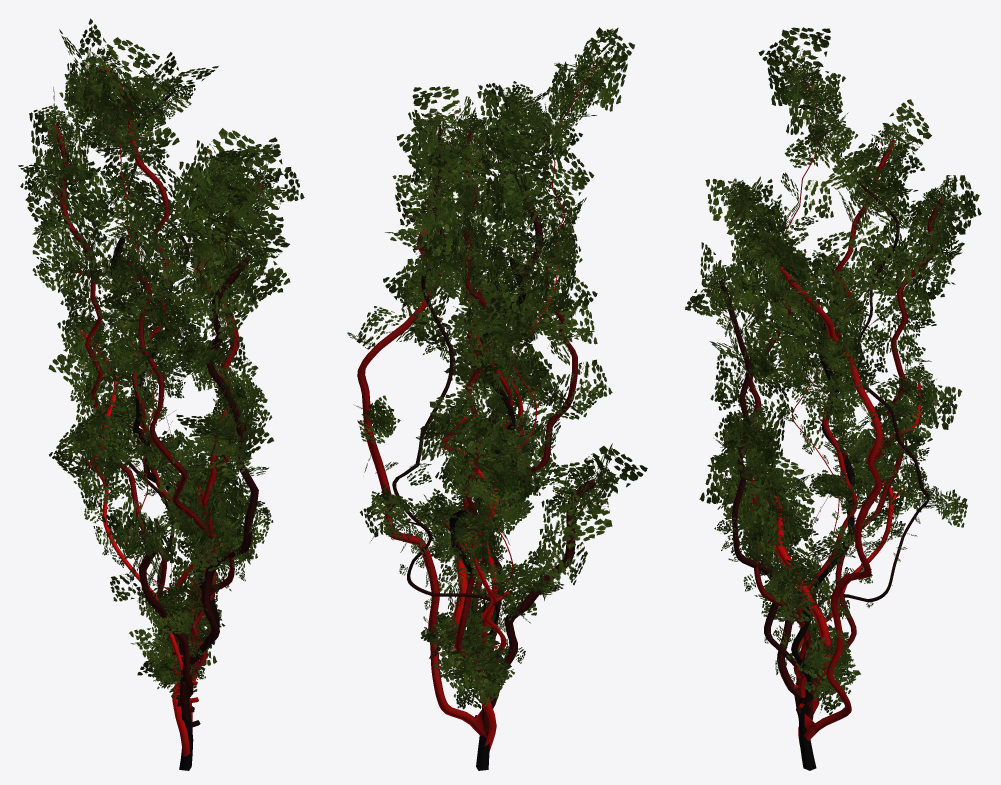
Rendered from Tree_13.fbx.
3 renders of one model, left to right at view 1: azimuth 30°, elevation 25°; view 2: azimuth 150°, elevation 25°; view 3: azimuth 270°, elevation 25°, orthographic. The views are drawn at different scales.
Parts seen in each view (by area): view 1: Tree_30; view 2: Tree_30; view 3: Tree_30.
Boxes of the visible parts, x1,y1,x2,y2 form: Tree_30: (18, 18, 304, 770); Tree_30: (347, 27, 647, 770); Tree_30: (685, 27, 981, 770).
Size of the model in its own units: 846 by 2654 by 1051.
